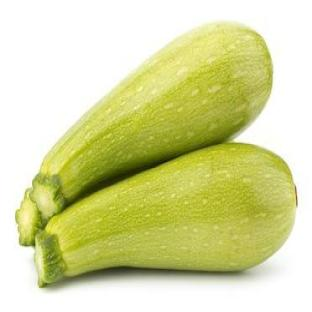Zucchini: (31, 23, 272, 224), (35, 143, 296, 285)
